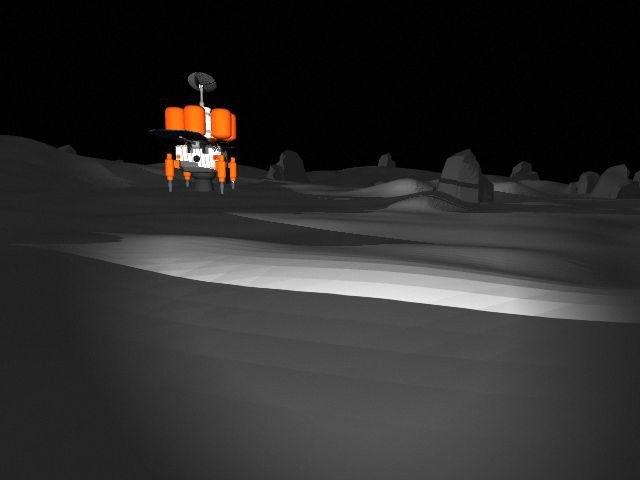homebase: (161, 71, 241, 194)
